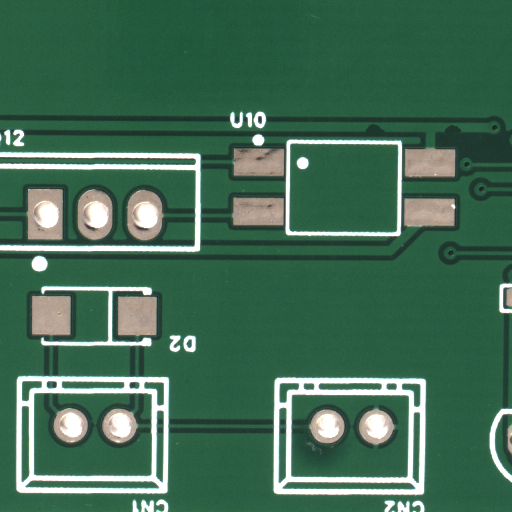Mouse_bite: (375, 129, 396, 140), (451, 128, 469, 138)
